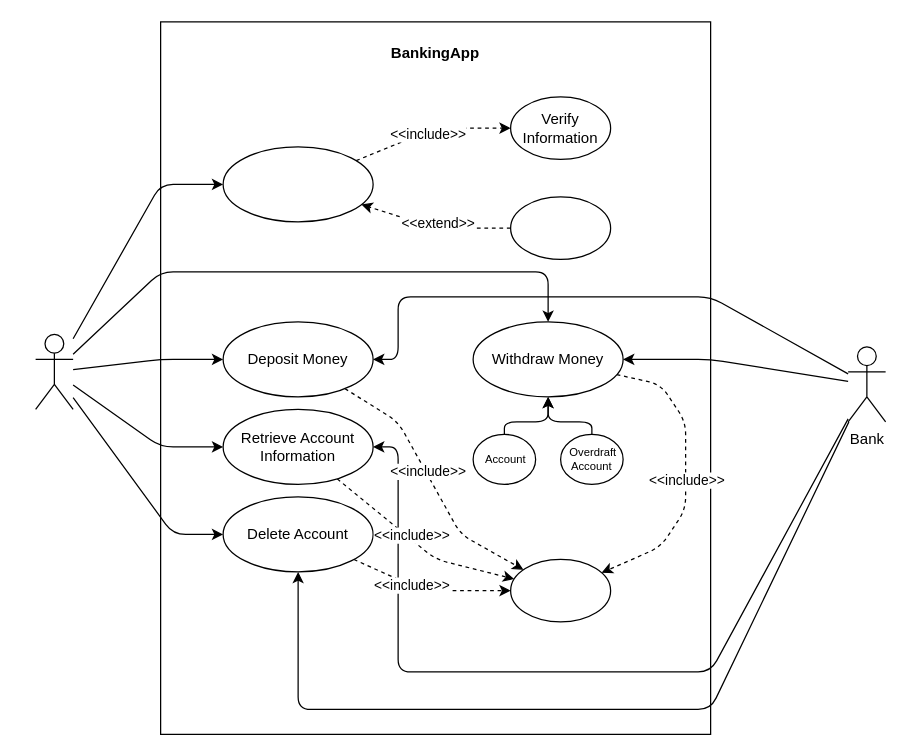
Image size: 908x756. Some labels were removed from this diagram. Here are the shapes that lost their labels. From the top down, the box of each, then its label:
(222, 146, 373, 222): Create Account
(509, 196, 611, 259): Display Error Message
(34, 333, 73, 409): Customer
(509, 558, 611, 622): Verify iBan
